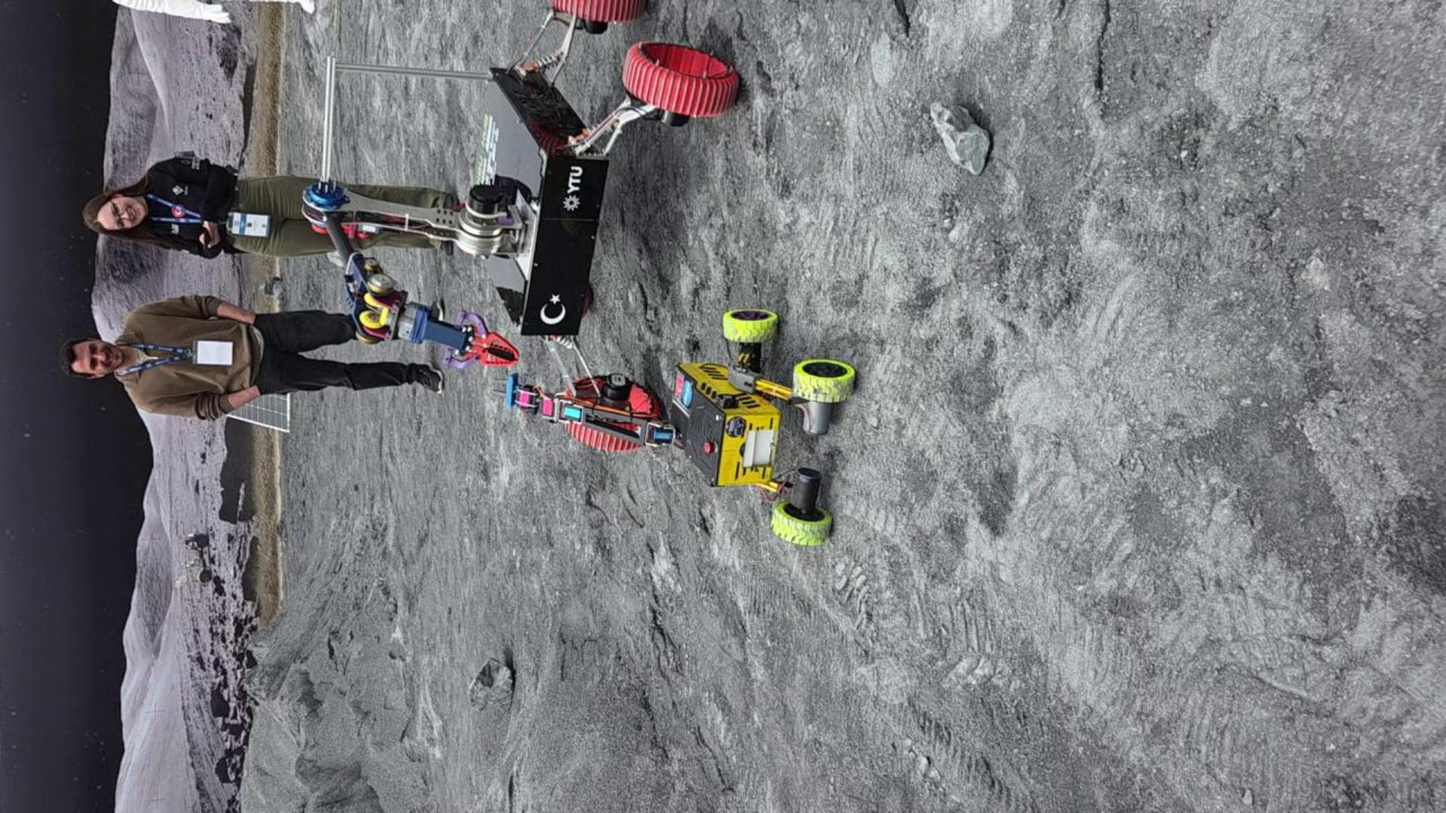rock: (930, 103, 990, 174), (468, 658, 514, 708)
